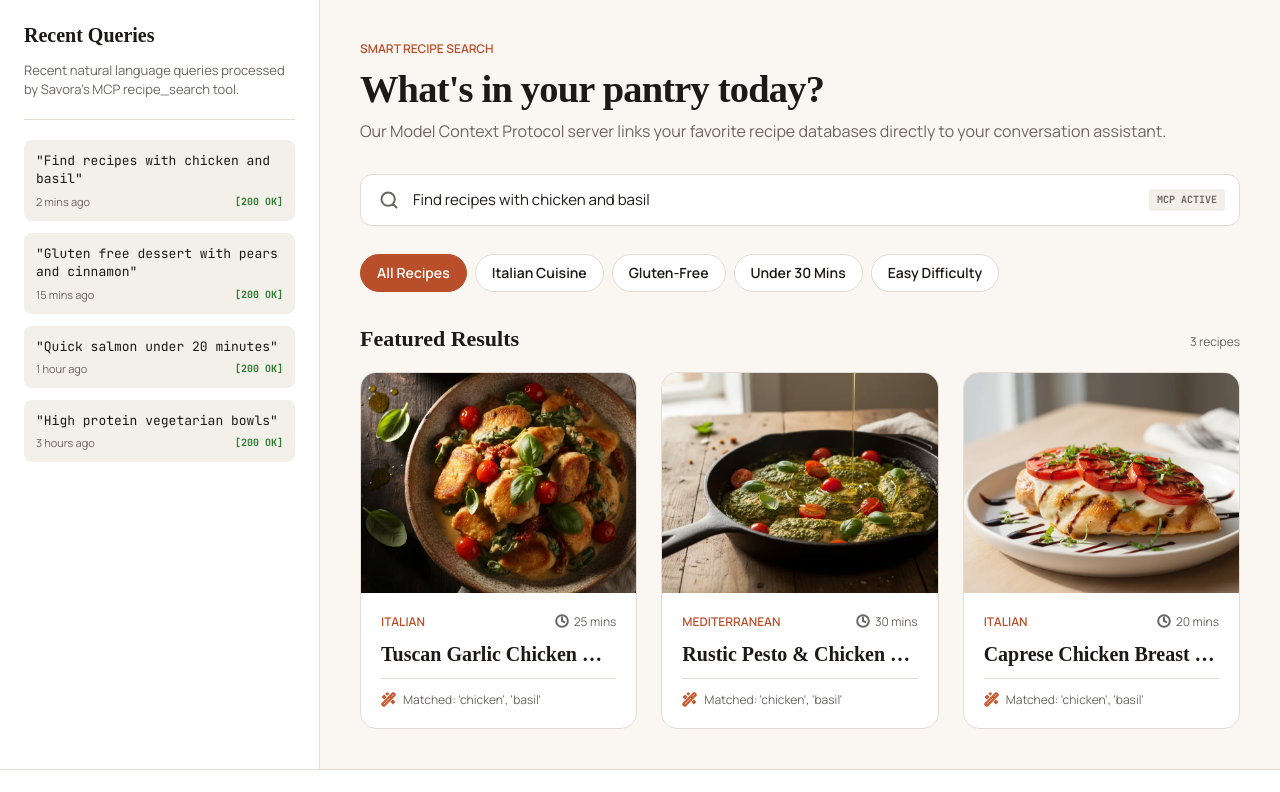
Test: Savora app › shows detail content for the selected recipe
Click the link with aria-label "View Caprese Chicken Breast Bake" at [1101, 550], box [964,373,1239,728]
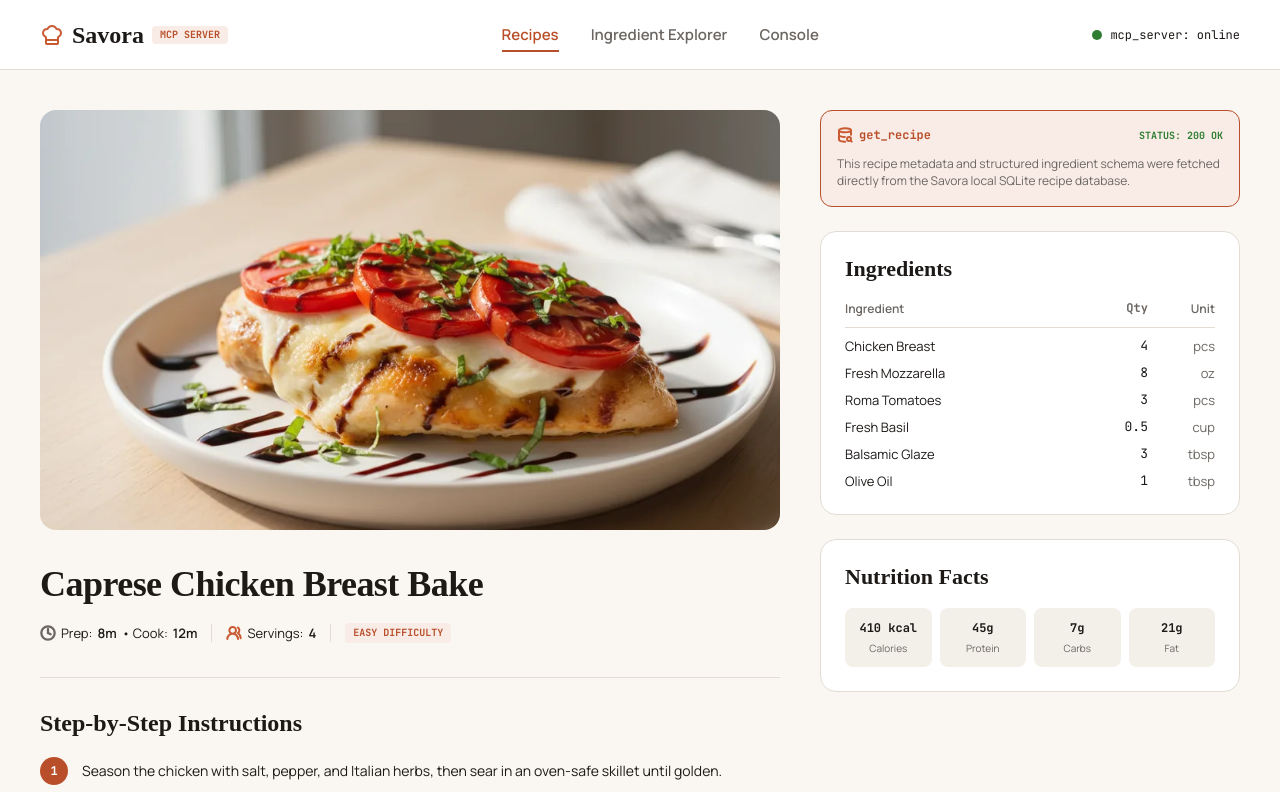
Expected: the heading "Caprese Chicken Breast Bake" is shown, [40,564,483,604]
Expected: the text "Fresh Mozzarella" is shown, [845,355,1091,382]
